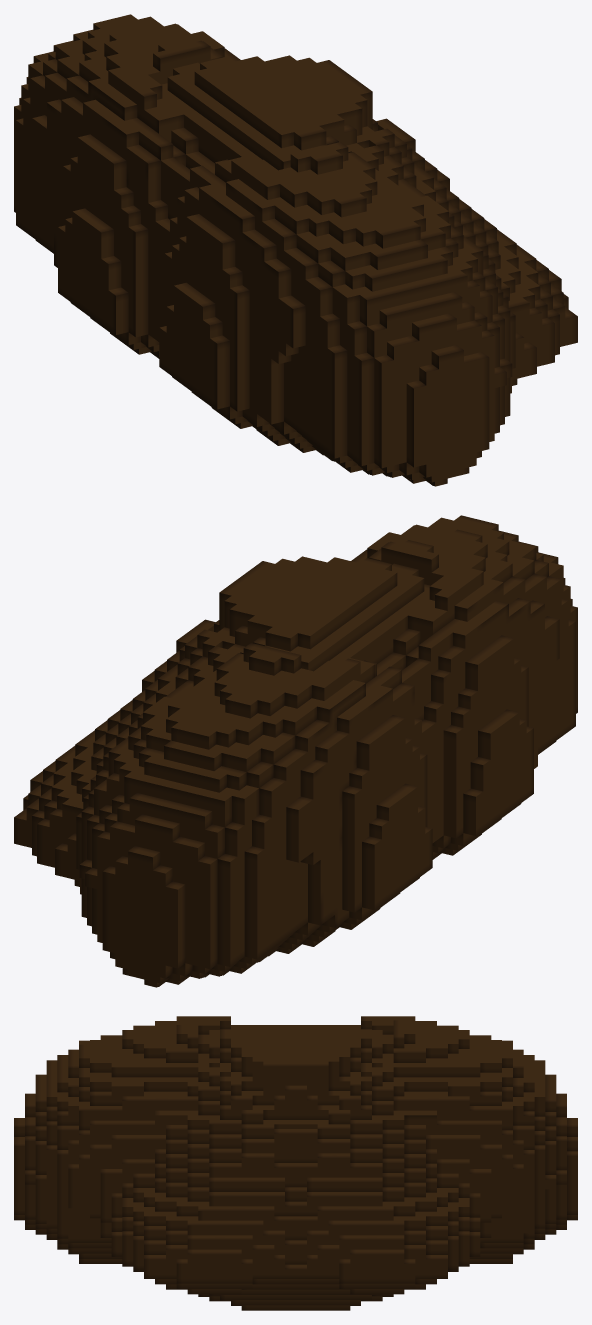
File: Tunic_F.obj
The picture shows the model from 3 angles, top to bottom: view 1: azimuth 30°, elevation 25°; view 2: azimuth 150°, elevation 25°; view 3: azimuth 270°, elevation 25°; orthographic projection. The views are drawn at different scales.
Parts seen in each view (by area): view 1: Tunic_F; view 2: Tunic_F; view 3: Tunic_F.
Part boxes in pixels (bbox=[...]): Tunic_F: bbox=[14, 14, 577, 486]; Tunic_F: bbox=[14, 515, 577, 987]; Tunic_F: bbox=[14, 1016, 577, 1310].
Size of the model in its own units: 28 by 23 by 52.
